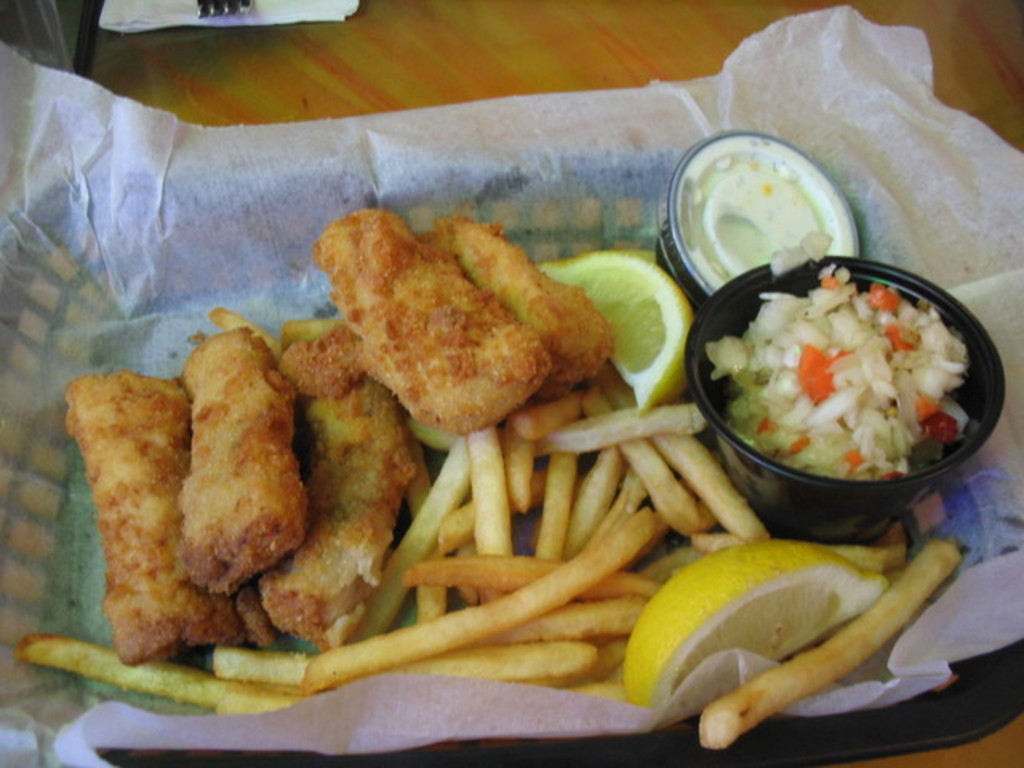French fries: (243, 342, 800, 735)
